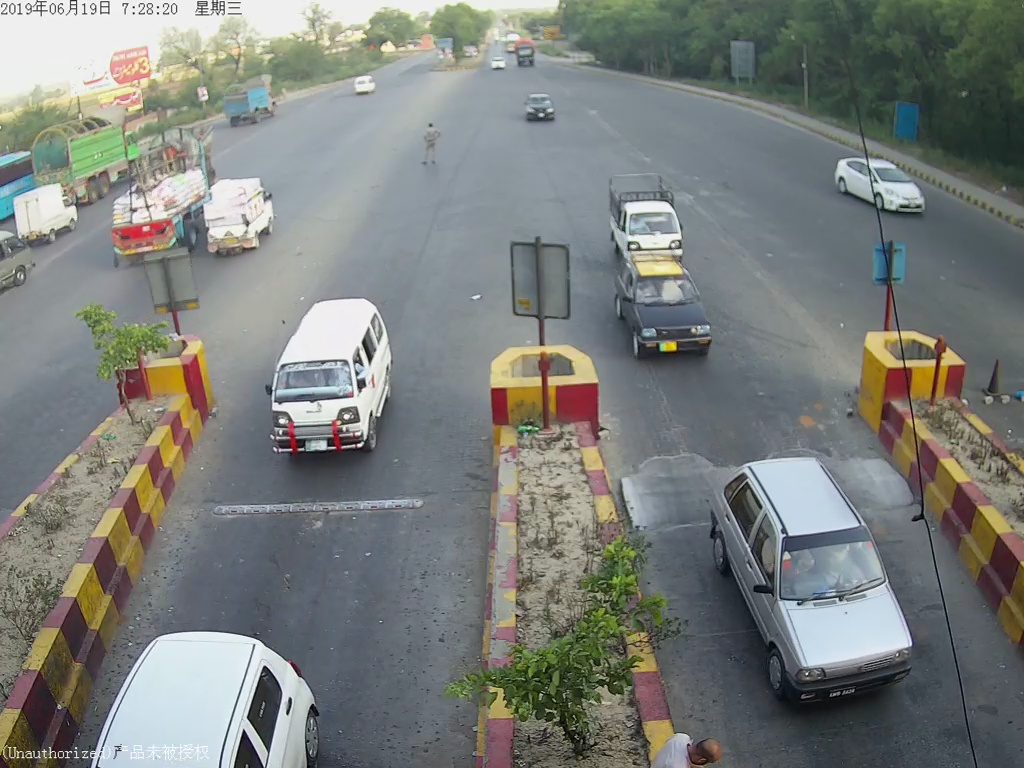Cat-1: (700, 453, 927, 705), (257, 293, 403, 474), (610, 252, 719, 364)
